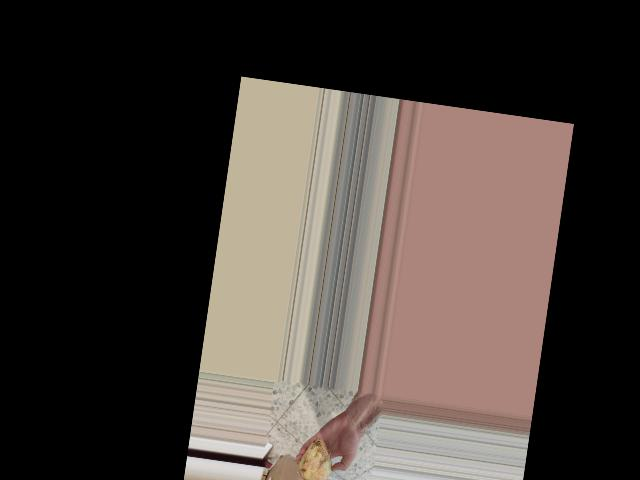onion: (295, 434, 335, 480)
